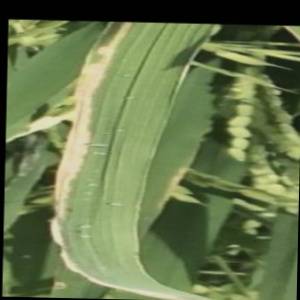Leaf_Blast: (52, 67, 151, 283)
